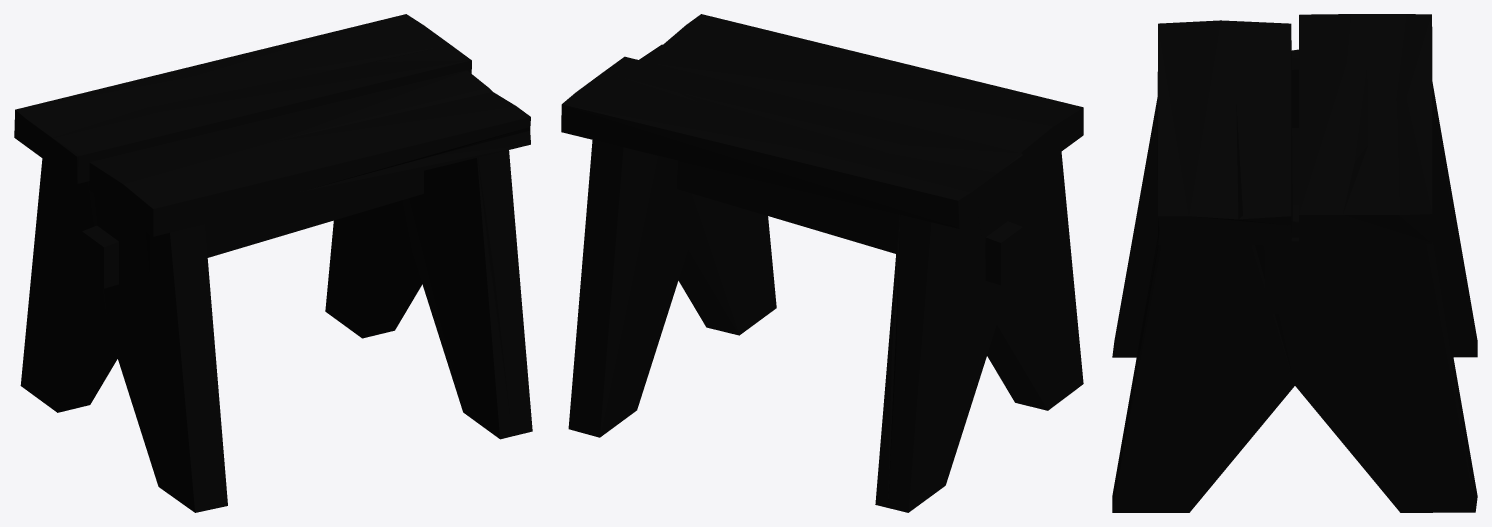
Rendered from SM_Stool_3.obj.
3 views of the same model, side by side, from view 1: azimuth 30°, elevation 25°; view 2: azimuth 150°, elevation 25°; view 3: azimuth 270°, elevation 25° (orthographic). The views are drawn at different scales.
Parts seen in each view (by area): view 1: SM_Stool_3_M_Texture_Atlas; view 2: SM_Stool_3_M_Texture_Atlas; view 3: SM_Stool_3_M_Texture_Atlas.
Part boxes in pixels (x1,y1,x2,y2): SM_Stool_3_M_Texture_Atlas: (14,14,532,512); SM_Stool_3_M_Texture_Atlas: (561,14,1083,512); SM_Stool_3_M_Texture_Atlas: (1112,14,1477,512).
Size of the model in its own units: 0.7453 by 0.544 by 0.5723.
